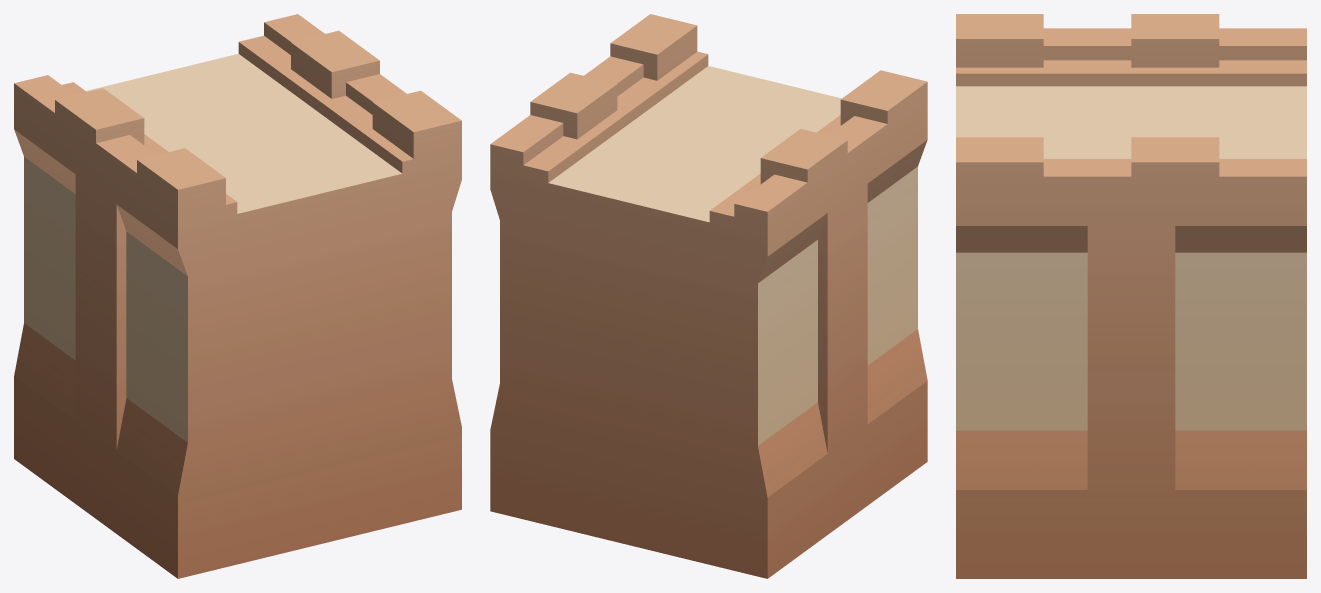
The model's file is kenney-castle-wall-pillar.glb.
3 renders of one model, left to right at view 1: azimuth 30°, elevation 25°; view 2: azimuth 150°, elevation 25°; view 3: azimuth 270°, elevation 25°, orthographic. The views are drawn at different scales.
Parts seen in each view (by area): view 1: wall-pillar; view 2: wall-pillar; view 3: wall-pillar.
Part boxes in pixels (box(x1,y1,x2,y2)): wall-pillar: box(14, 14, 461, 578); wall-pillar: box(490, 14, 927, 578); wall-pillar: box(956, 14, 1306, 578).
Bounding box in the file's own units: 1 × 1.31 × 1.
1 material, 1 textured.
